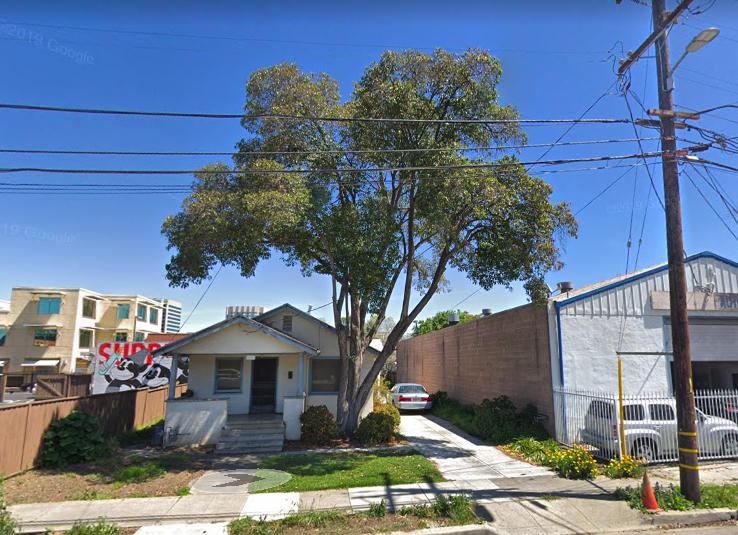tree: (157, 41, 580, 440)
